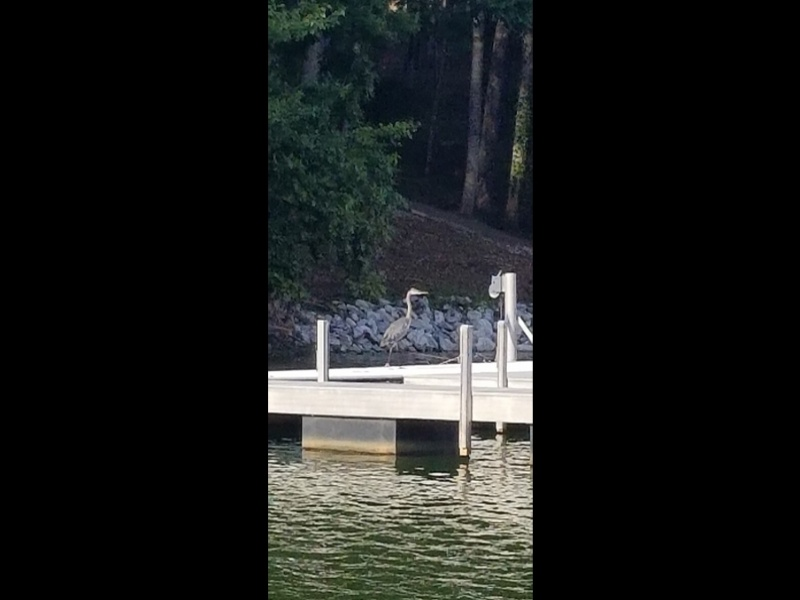heron: (378, 285, 429, 378)
